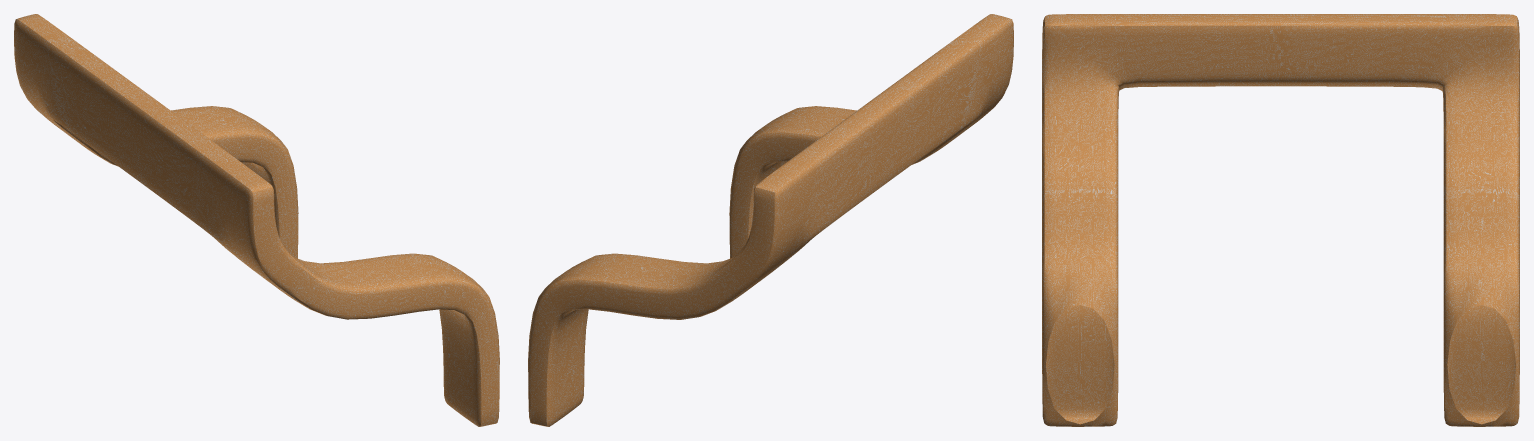
File: original-6.obj
3 views of the same model, side by side, from view 1: azimuth 30°, elevation 25°; view 2: azimuth 150°, elevation 25°; view 3: azimuth 270°, elevation 25° (orthographic).
Parts seen in each view (by area): view 1: Line04_1_2/Line04_1_1_2/mesh4/mesh4-geometry#mesh4-geometry; view 2: Line04_1_2/Line04_1_1_2/mesh4/mesh4-geometry#mesh4-geometry; view 3: Line04_1_2/Line04_1_1_2/mesh4/mesh4-geometry#mesh4-geometry.
Part boxes in pixels (<box>): Line04_1_2/Line04_1_1_2/mesh4/mesh4-geometry#mesh4-geometry: <box>14,14,499,426</box>; Line04_1_2/Line04_1_1_2/mesh4/mesh4-geometry#mesh4-geometry: <box>528,14,1013,426</box>; Line04_1_2/Line04_1_1_2/mesh4/mesh4-geometry#mesh4-geometry: <box>1042,14,1519,426</box>.
Bounding box in the file's own units: 0.2438 × 0.2742 × 0.4031.
